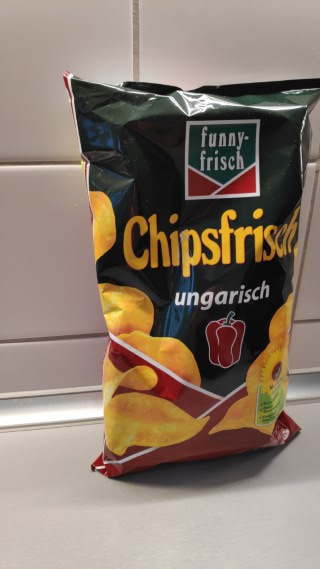chipsfrisch: (62, 67, 320, 482)
